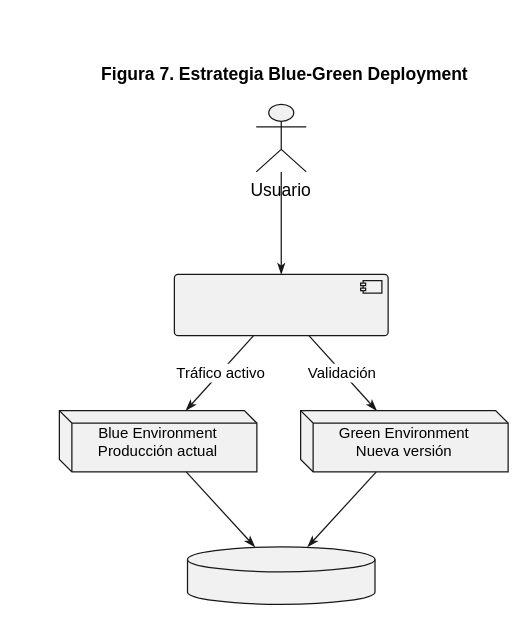
Some shapes in this 530 by 626 pixel diagram are drawn without their labels. Here are the shapes that lost their labels. From the top down, the box of each, then its label:
(173, 273, 388, 336): Application Gateway
(186, 546, 375, 604): Azure SQL Database
